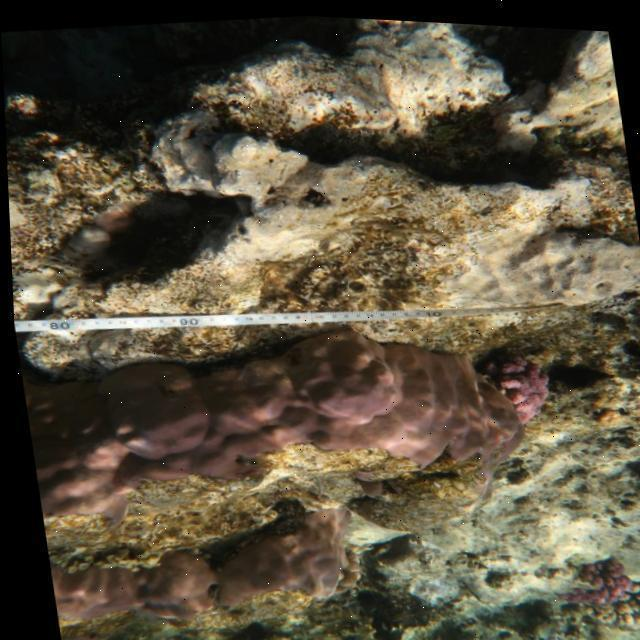Healthy Coral: (25, 347, 497, 500), (473, 342, 548, 429), (568, 551, 640, 597)
